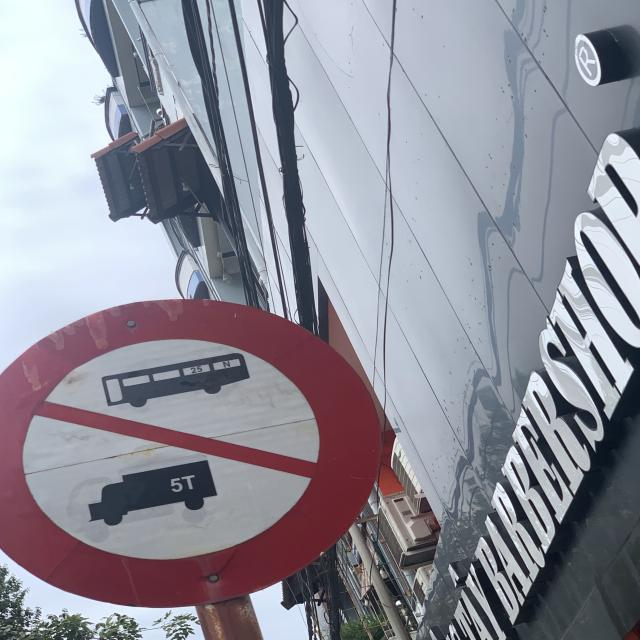Cam_XeTai_XeKhach: (0, 298, 386, 604)
